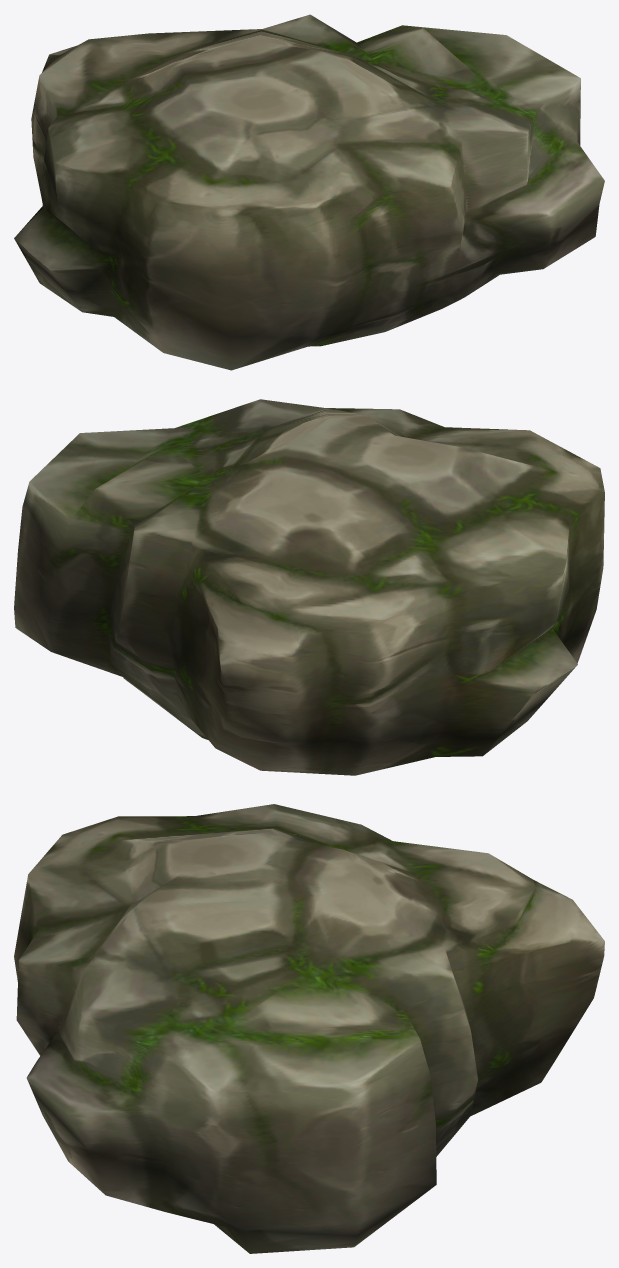
The model's file is RockFormation_4_2 (51).fbx.
3 views of the same model, one above another, from view 1: azimuth 30°, elevation 25°; view 2: azimuth 150°, elevation 25°; view 3: azimuth 270°, elevation 25° (orthographic). The views are drawn at different scales.
Parts seen in each view (by area): view 1: RockFormation_4_2 (51); view 2: RockFormation_4_2 (51); view 3: RockFormation_4_2 (51).
Part boxes in pixels (box(x1,y1,x2,y2)): RockFormation_4_2 (51): box(14, 14, 604, 370); RockFormation_4_2 (51): box(14, 399, 604, 775); RockFormation_4_2 (51): box(14, 804, 604, 1253).
Size of the model in its own units: 262 by 127 by 237.
Materials: 1 (1 with a texture image).
